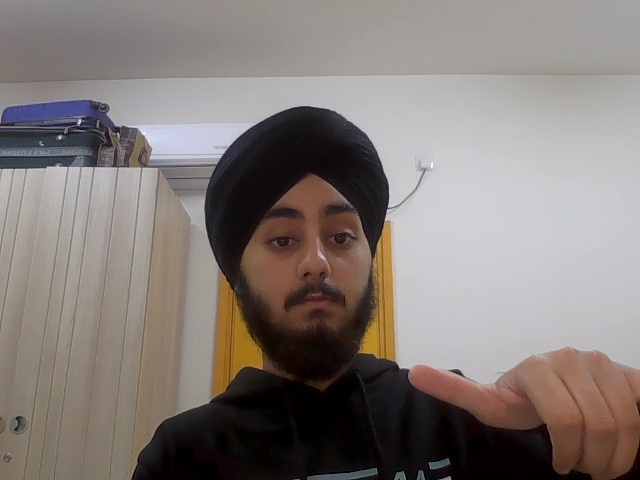Same: (403, 342, 640, 480)
